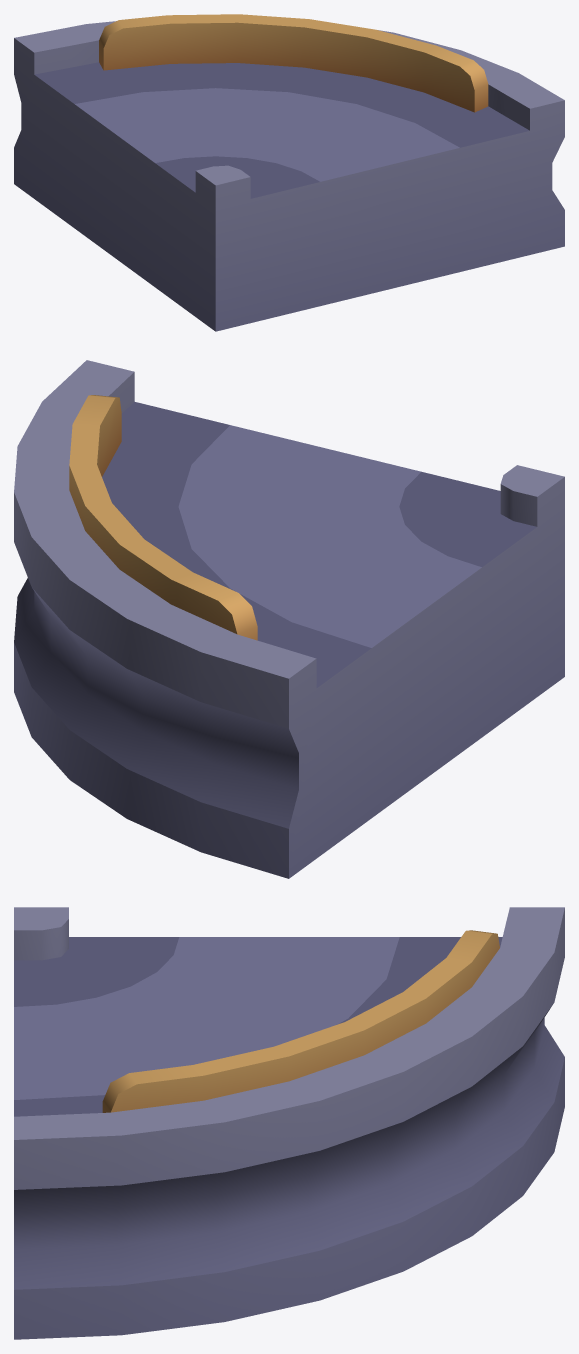
The model's file is conveyor-stripe-corner.glb.
3 renders of one model, top to bottom at view 1: azimuth 30°, elevation 25°; view 2: azimuth 150°, elevation 25°; view 3: azimuth 270°, elevation 25°, orthographic. The views are drawn at different scales.
Parts seen in each view (by area): view 1: conveyor-stripe-corner; view 2: conveyor-stripe-corner; view 3: conveyor-stripe-corner.
Part boxes in pixels (x1,y1,x2,y2): conveyor-stripe-corner: (14,14,564,331); conveyor-stripe-corner: (14,360,564,878); conveyor-stripe-corner: (14,907,564,1339).
Size of the model in its own units: 1 by 0.45 by 1.
